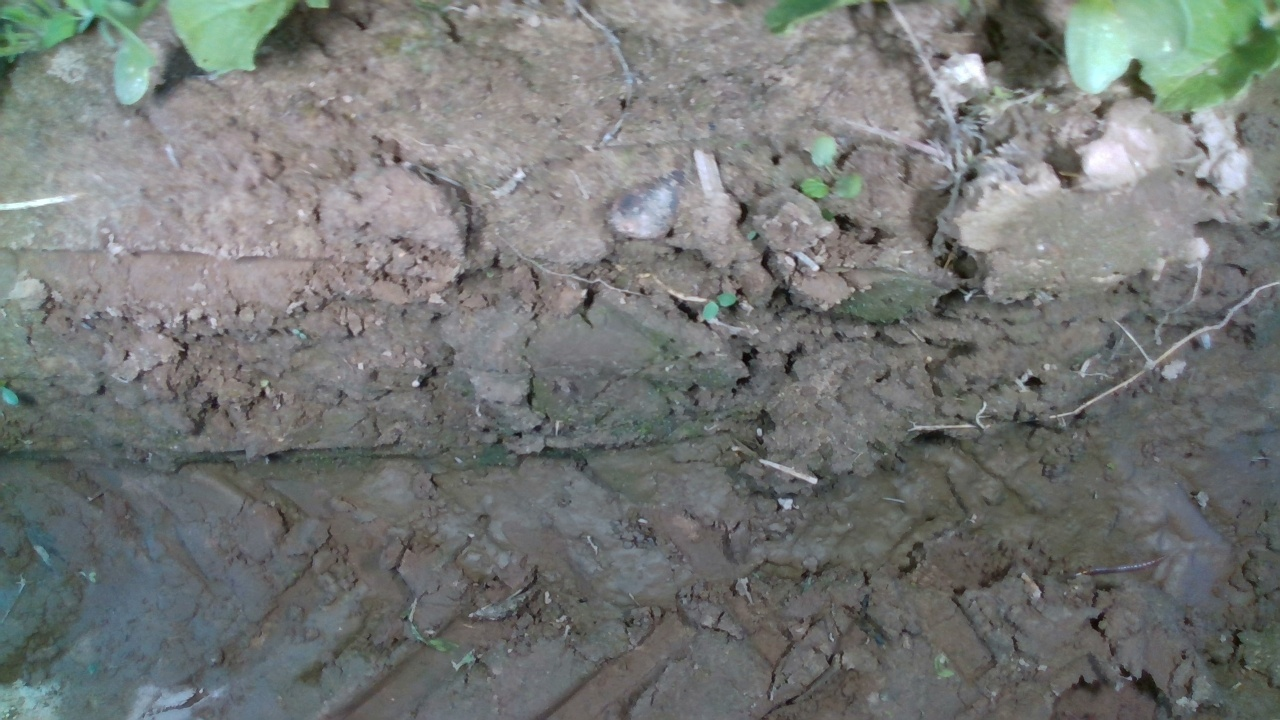weed: (698, 291, 736, 324)
